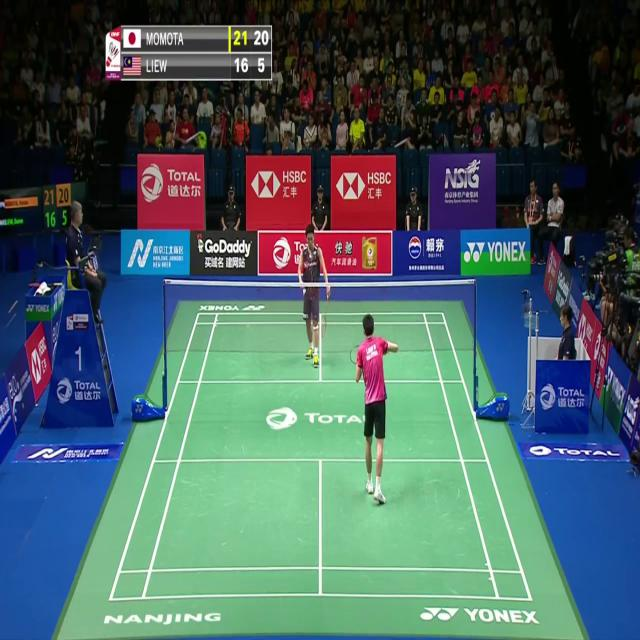Shuttlecock: (301, 286, 307, 297)
